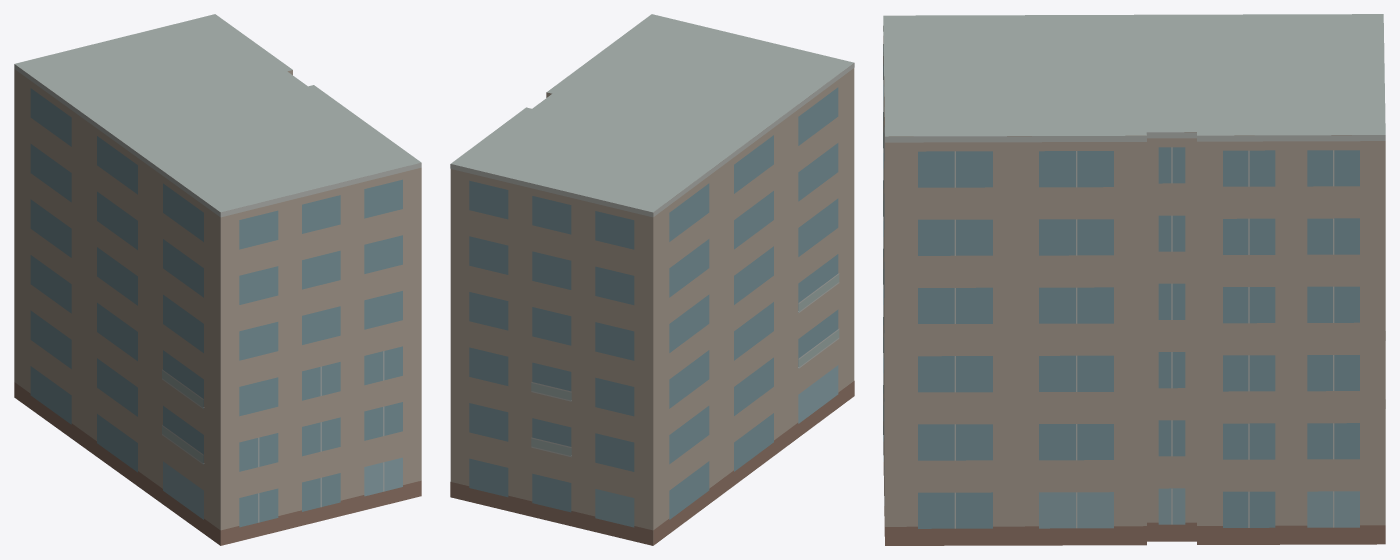
File: survey-upis-32926921.glb
3 views of the same model, side by side, from view 1: azimuth 30°, elevation 25°; view 2: azimuth 150°, elevation 25°; view 3: azimuth 270°, elevation 25° (orthographic). The views are drawn at different scales.
Parts seen in each view (by area): view 1: survey-upis-32926921.tmp; view 2: survey-upis-32926921.tmp; view 3: survey-upis-32926921.tmp.
Part boxes in pixels (x1,y1,x2,y2): survey-upis-32926921.tmp: (14, 14, 421, 545); survey-upis-32926921.tmp: (450, 14, 854, 545); survey-upis-32926921.tmp: (883, 14, 1385, 545).
Bounding box in the file's own units: 10.47 × 16.3 × 18.15.
